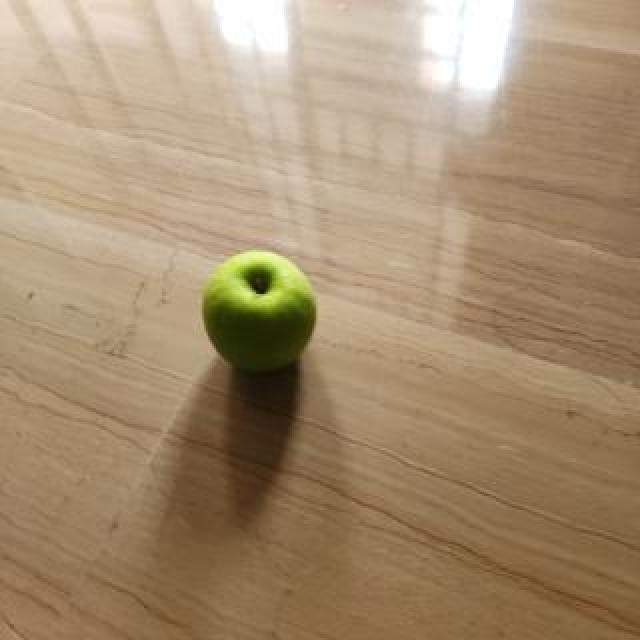Fresh Apple: (185, 243, 325, 385)
